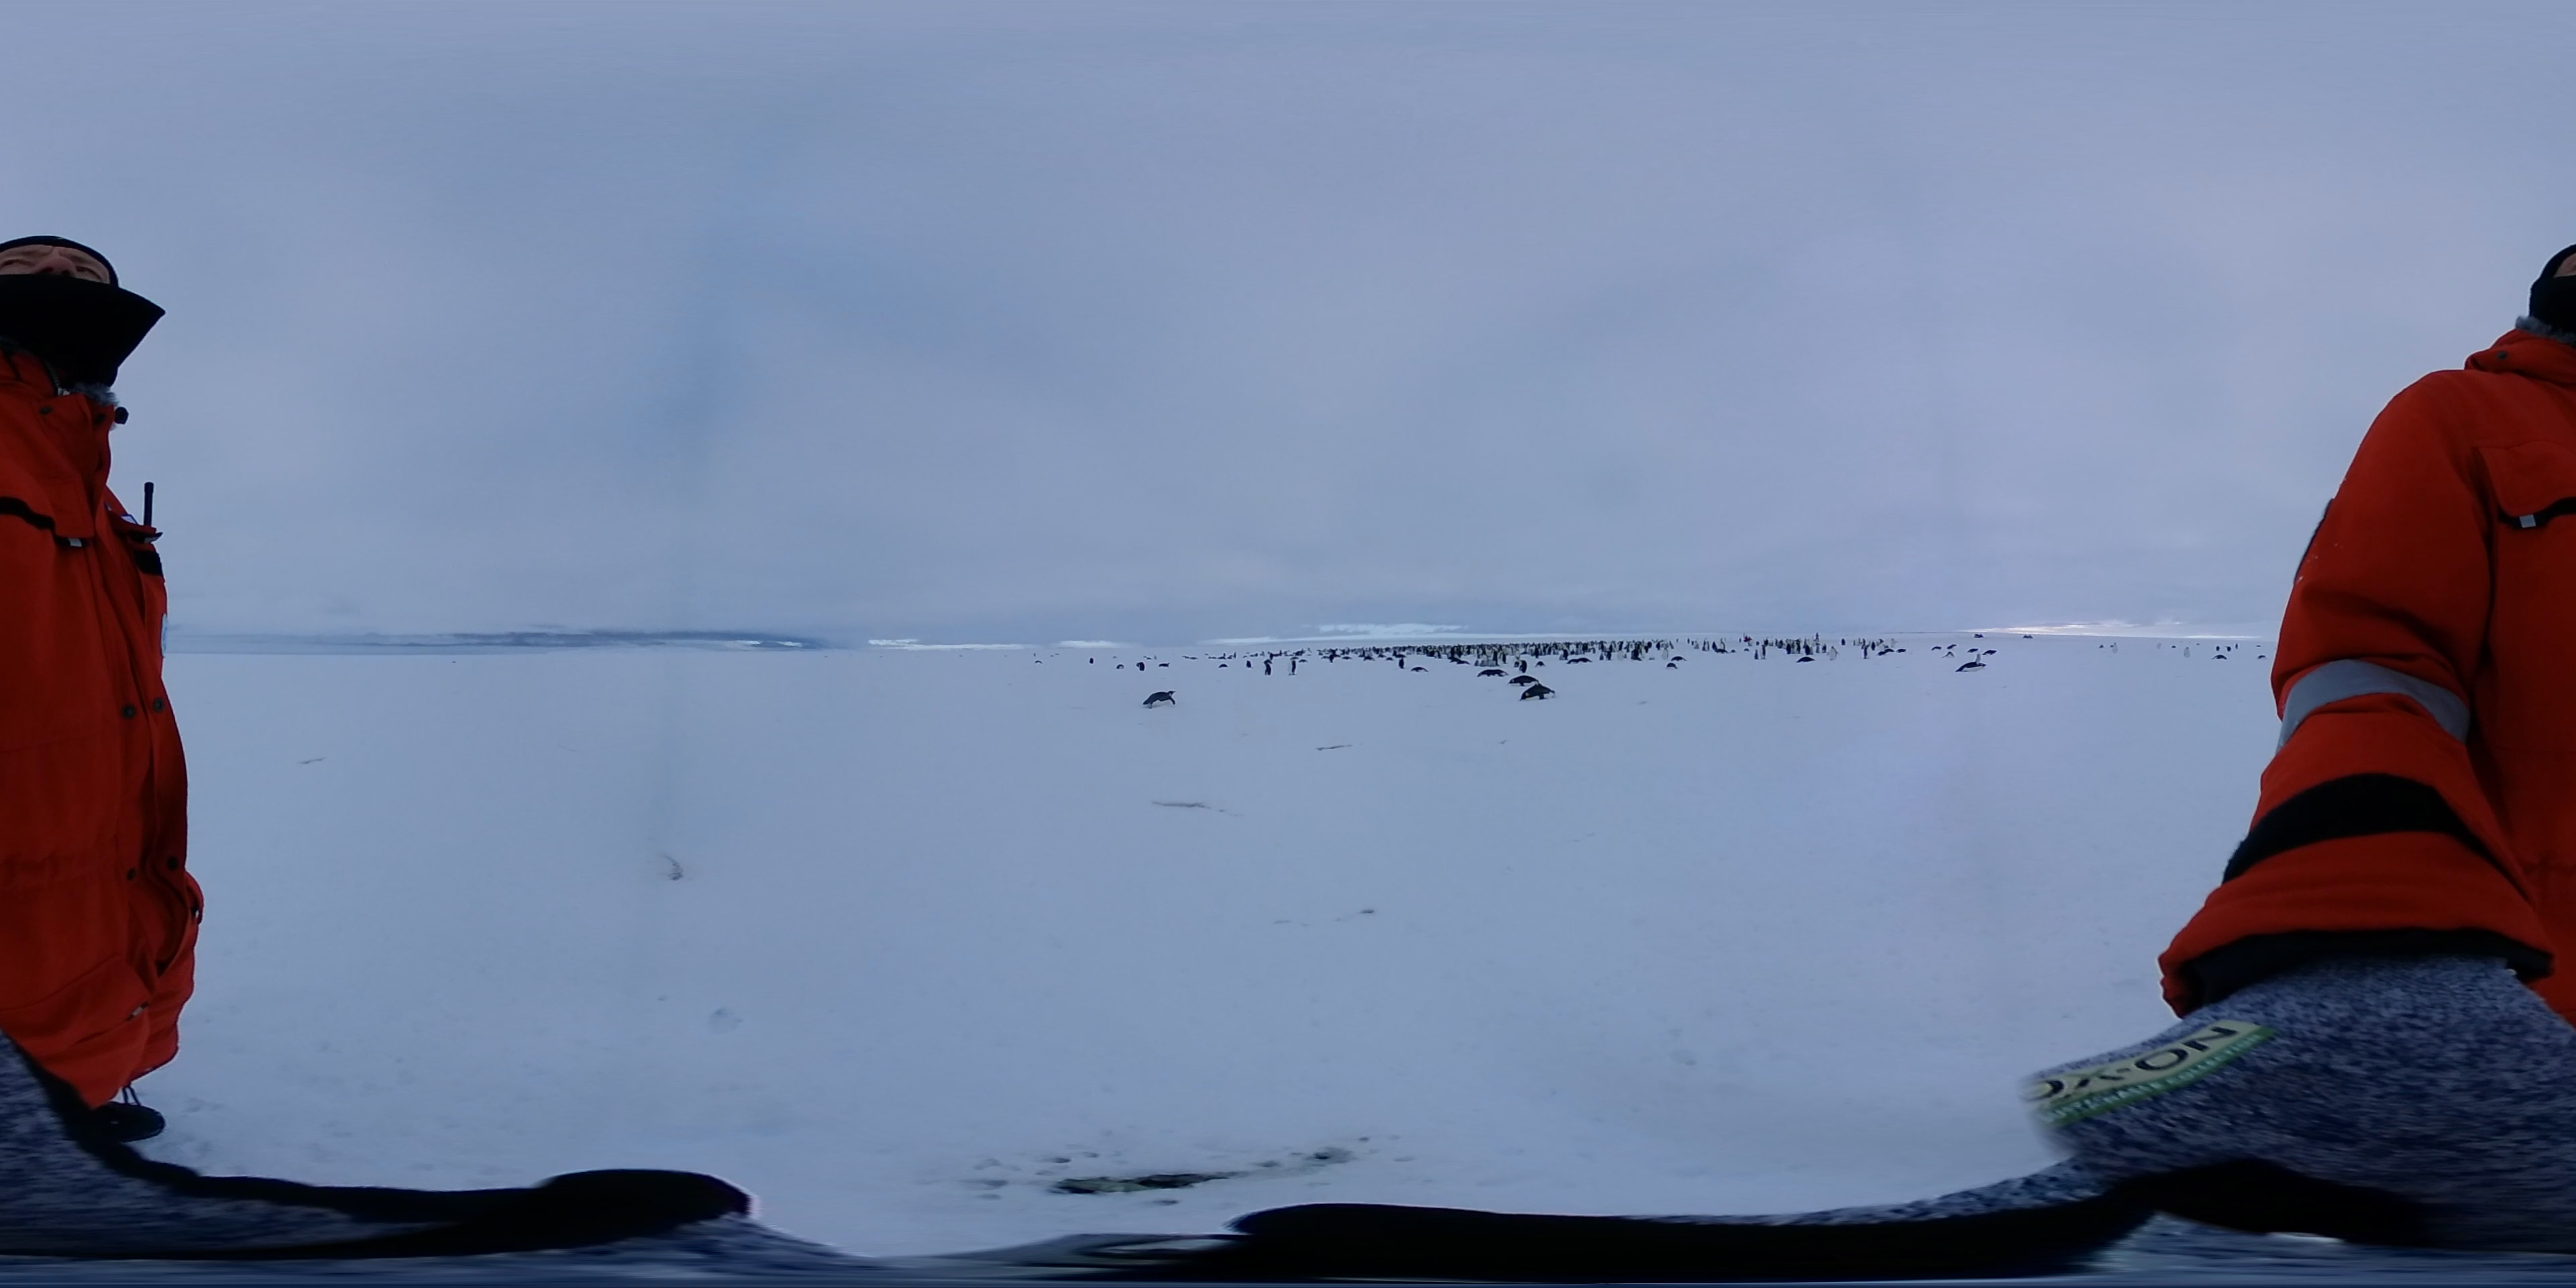adult_toboggan_penguin: (1138, 687, 1180, 710), (1518, 685, 1559, 701), (1505, 674, 1541, 688), (1953, 660, 1985, 674)
researcher: (2141, 233, 2576, 1046), (0, 218, 207, 1265)
